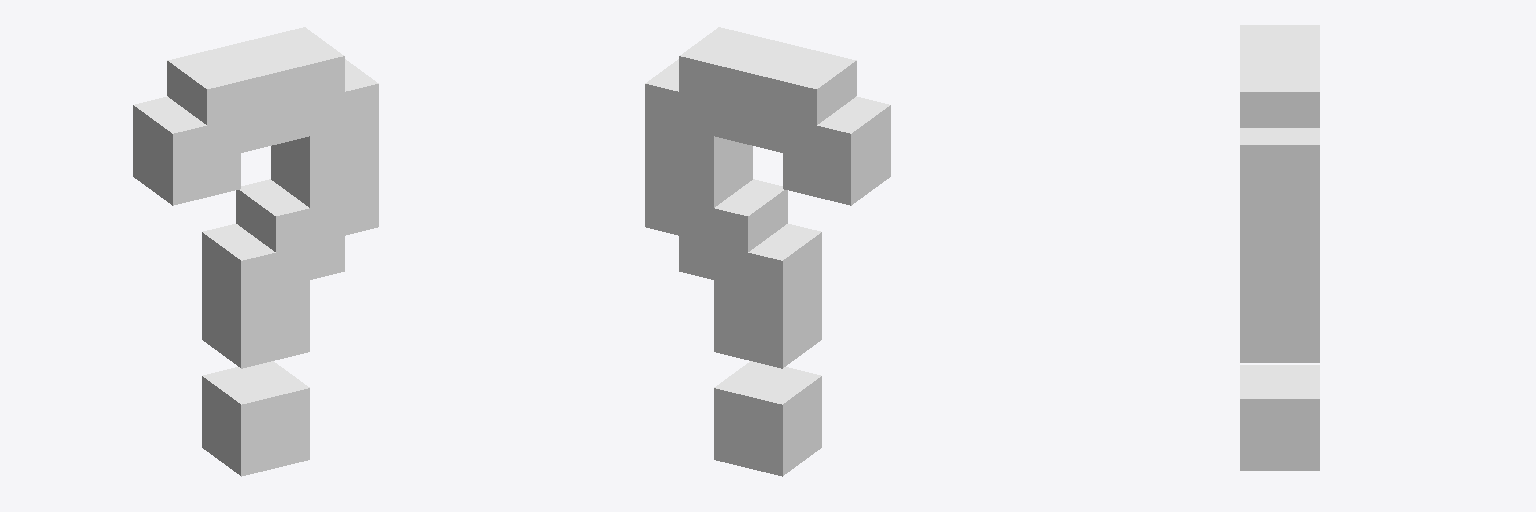
Rendered from questionmark.obj.
3 renders of one model, left to right at view 1: azimuth 30°, elevation 25°; view 2: azimuth 150°, elevation 25°; view 3: azimuth 270°, elevation 25°, orthographic.
Parts seen in each view (by area): view 1: questionmark; view 2: questionmark; view 3: questionmark.
Part boxes in pixels (x1,y1,x2,y2): questionmark: (133, 27, 378, 476); questionmark: (645, 27, 890, 476); questionmark: (1240, 25, 1319, 470).
Bounding box in the file's own units: 0.6 × 1.1 × 0.2.